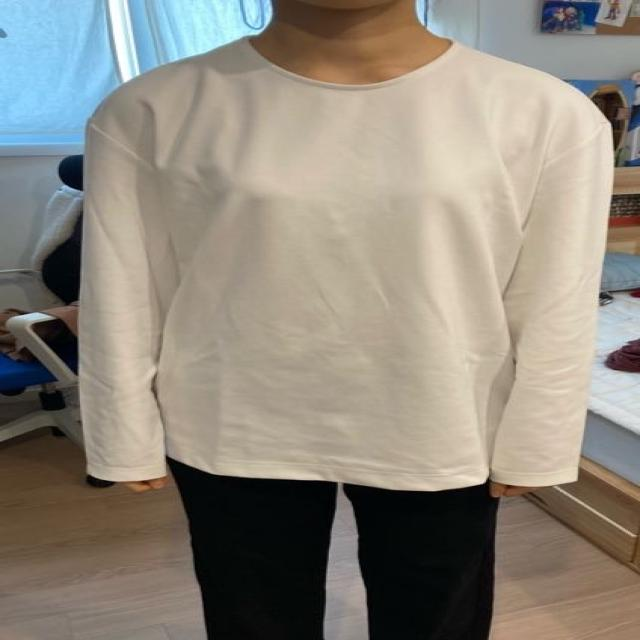longsleeve: (79, 41, 614, 490)
trainingpants: (171, 453, 497, 640)
